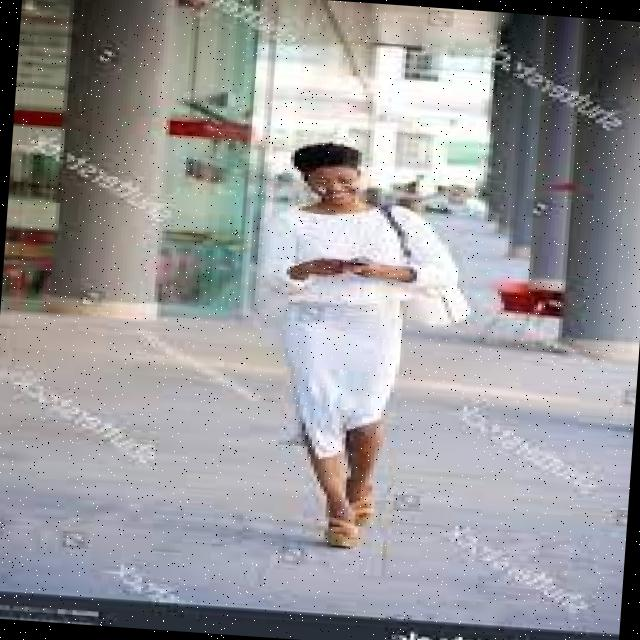Person: (246, 140, 482, 553)
